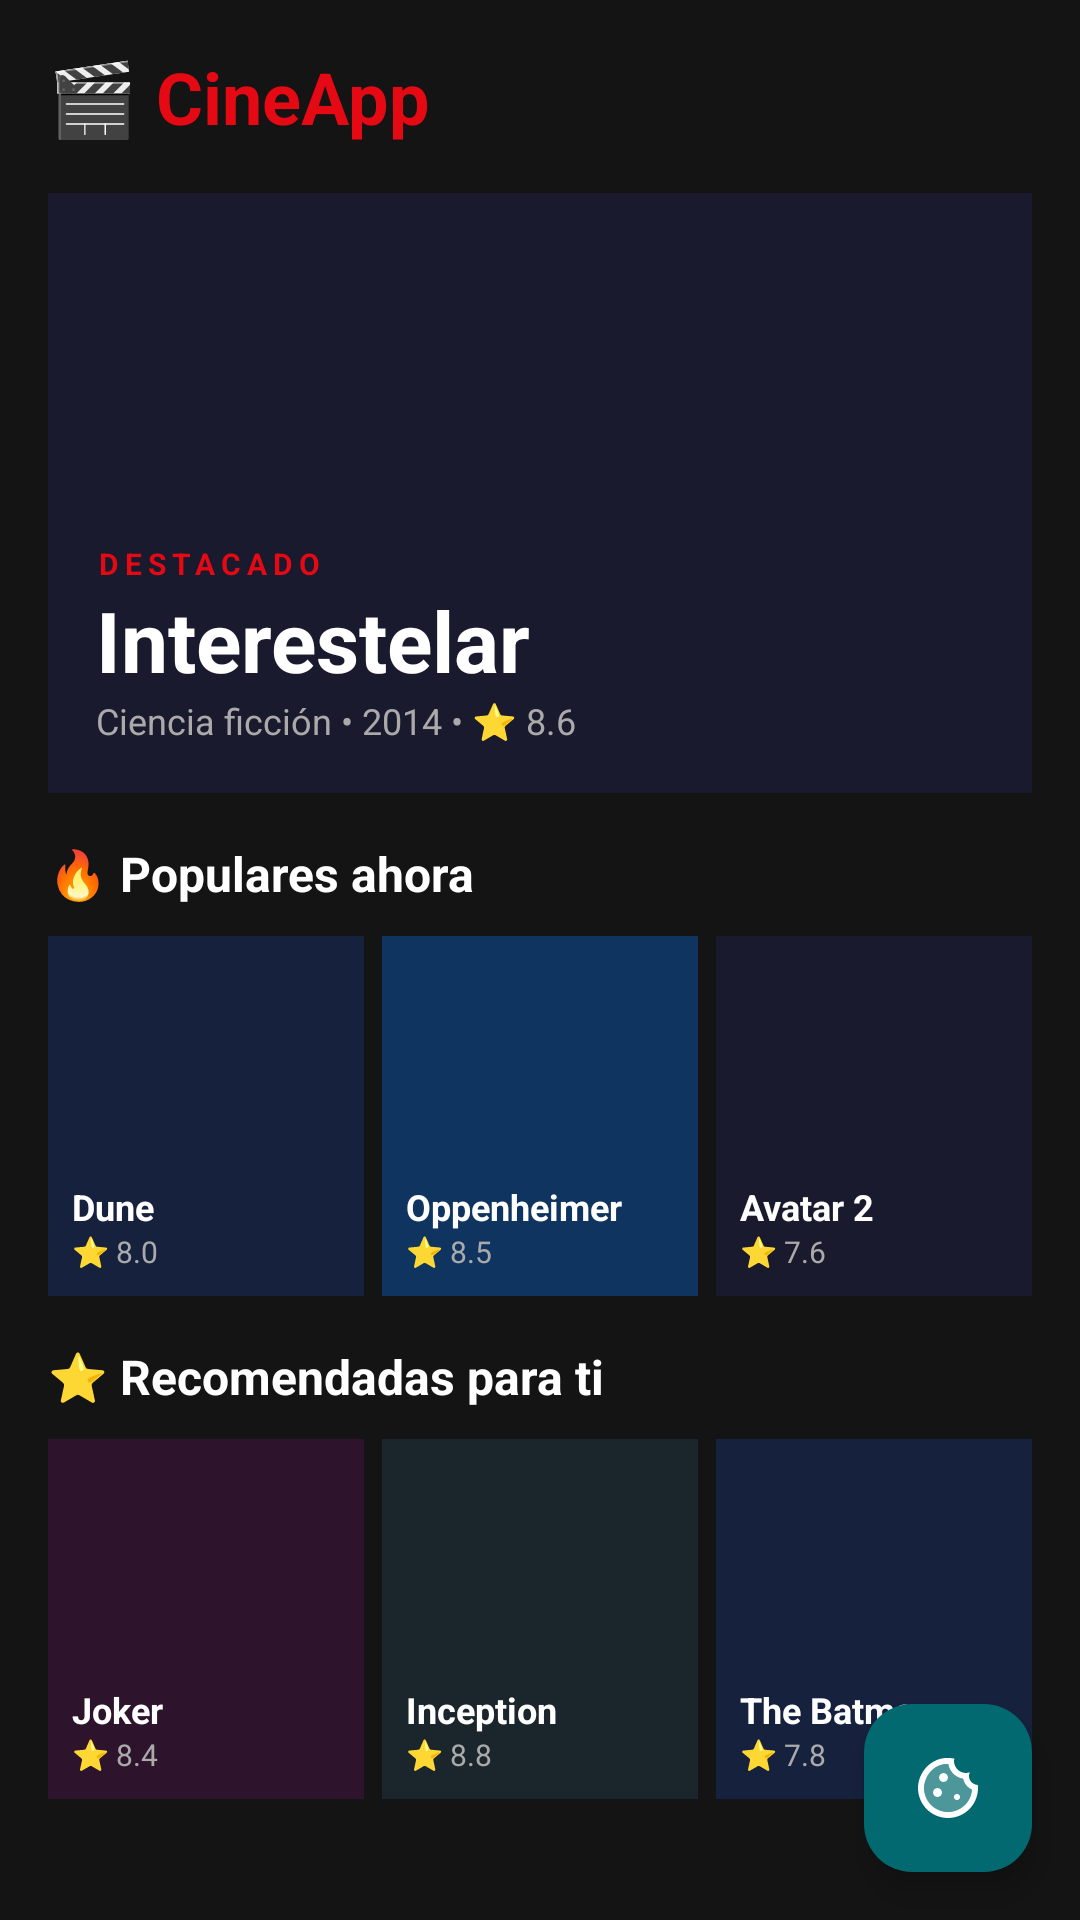

Screen size 1080px x 1920px. Icon name, then its center in pixels as point (x, y):
Gestionar privacidad: point (948, 1788)
